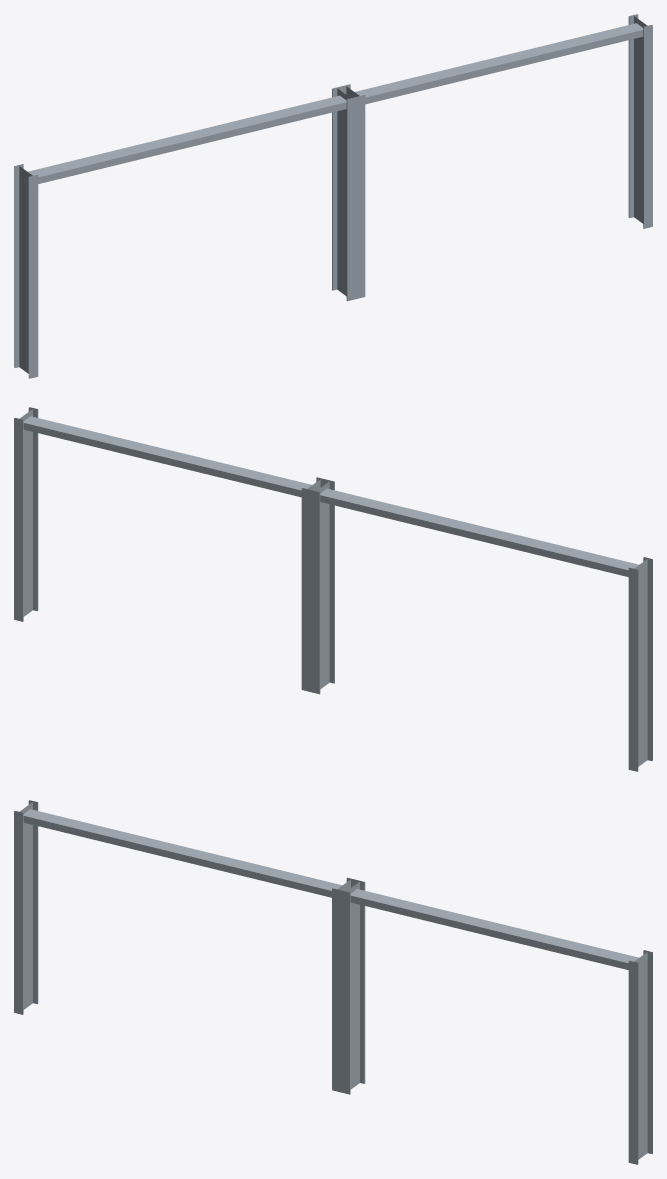
The model's file is SM06_Building_Structure_Wall_Top_Flat_04_Corner.fbx.
3 renders of one model, top to bottom at view 1: azimuth 30°, elevation 25°; view 2: azimuth 150°, elevation 25°; view 3: azimuth 330°, elevation 25°, orthographic.
Visible parts, largest first — view 1: SM06_Building_Structure_Wall_Top_Flat_04_Corner; view 2: SM06_Building_Structure_Wall_Top_Flat_04_Corner; view 3: SM06_Building_Structure_Wall_Top_Flat_04_Corner.
Boxes of the visible parts, box(x1,y1,x2,y2) form: SM06_Building_Structure_Wall_Top_Flat_04_Corner: box(14, 14, 652, 378); SM06_Building_Structure_Wall_Top_Flat_04_Corner: box(14, 407, 652, 771); SM06_Building_Structure_Wall_Top_Flat_04_Corner: box(14, 800, 652, 1164).
Size of the model in its own units: 13.83 by 4.27 by 0.59.
